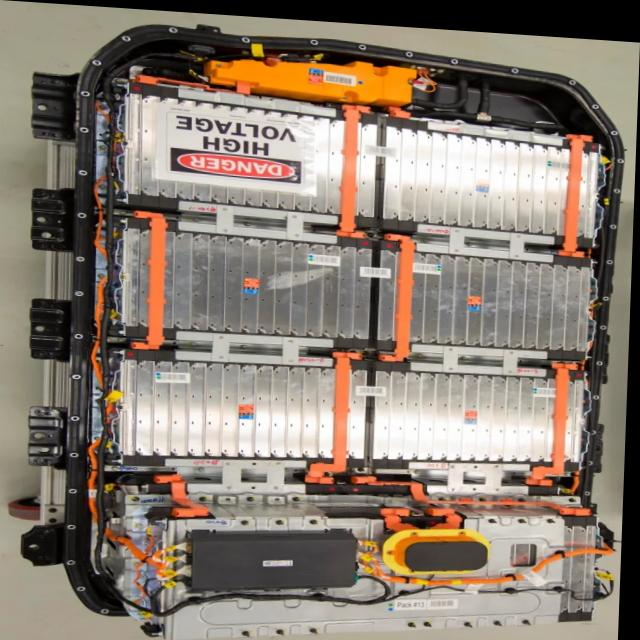Aluminum-frame: (181, 196, 340, 239), (177, 328, 339, 362), (418, 217, 558, 256), (180, 83, 335, 112), (415, 338, 548, 370), (179, 457, 310, 489), (412, 456, 532, 490), (429, 113, 564, 137)
Battery Module: (126, 93, 381, 213), (127, 228, 374, 333), (126, 359, 371, 453), (388, 121, 600, 229), (381, 246, 593, 344), (377, 365, 586, 453)
Bolt: (186, 211, 206, 220), (241, 215, 257, 223), (460, 348, 473, 357), (415, 462, 429, 469), (199, 464, 213, 471), (240, 340, 254, 347), (422, 229, 434, 237), (191, 337, 202, 345), (96, 432, 107, 439), (418, 347, 430, 353), (467, 233, 477, 240), (117, 336, 128, 342), (99, 271, 109, 277), (116, 464, 124, 471), (243, 465, 254, 470), (101, 142, 108, 149), (141, 520, 147, 527), (121, 209, 129, 214)
Bus-bar: (359, 470, 595, 506), (309, 347, 365, 479), (530, 355, 581, 477), (132, 209, 169, 347), (380, 229, 416, 357), (340, 100, 371, 233), (560, 126, 593, 250), (138, 72, 253, 93), (160, 472, 214, 514)
Cable: (363, 535, 621, 582), (91, 440, 176, 580), (94, 276, 111, 391), (95, 174, 112, 257)
Nut: (462, 609, 481, 624), (277, 621, 293, 636), (519, 607, 539, 619), (492, 609, 509, 622), (240, 625, 260, 636), (311, 621, 329, 632), (404, 614, 423, 624), (491, 509, 504, 521), (311, 513, 326, 523), (242, 514, 256, 524), (200, 492, 215, 501), (427, 612, 439, 623), (278, 514, 292, 523), (546, 509, 561, 517), (521, 510, 532, 520), (292, 492, 309, 498), (250, 491, 261, 500), (572, 488, 582, 496)
